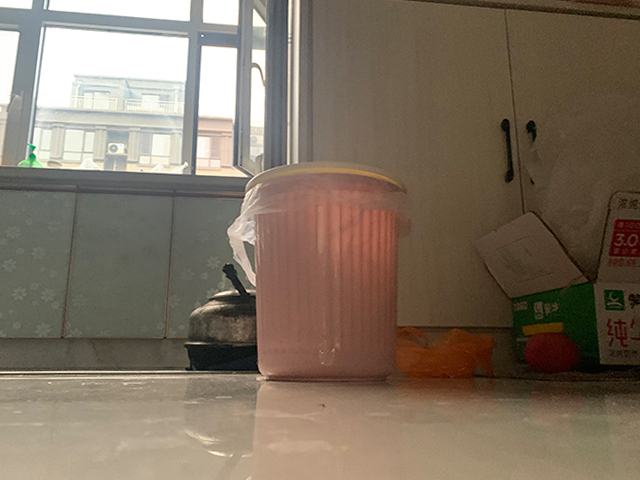cabinet: (310, 1, 640, 374), (1, 166, 187, 369)
trashcan: (244, 162, 406, 382)
